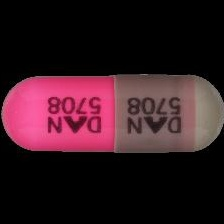67296-0073: (0, 0, 224, 224)
